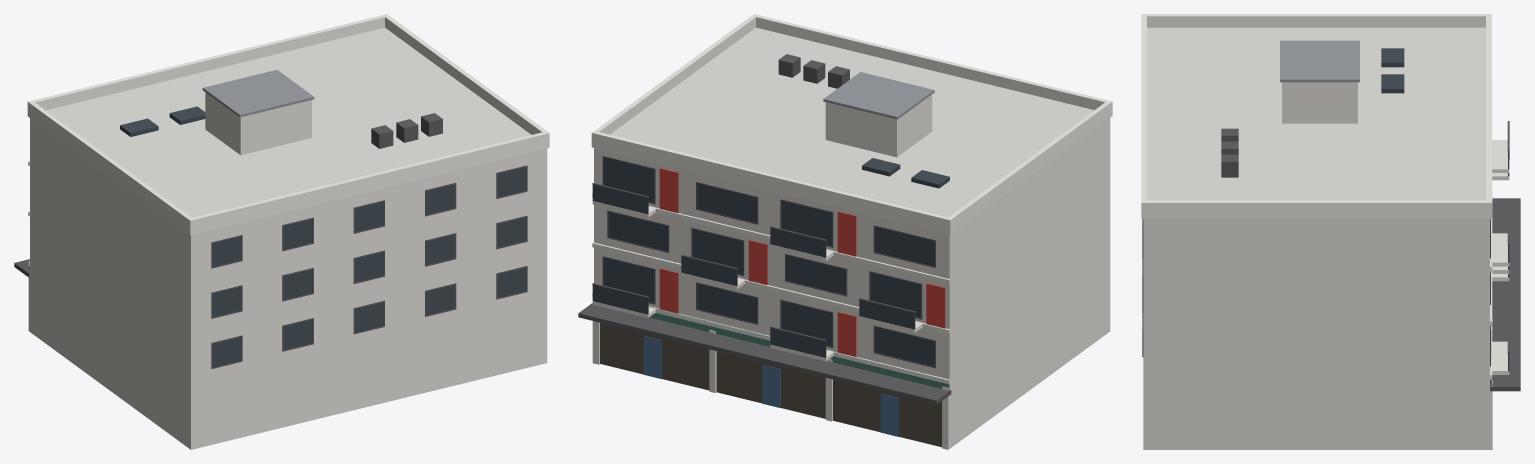
File: ca_mainstreet4_b.glb
3 views of the same model, side by side, from view 1: azimuth 30°, elevation 25°; view 2: azimuth 150°, elevation 25°; view 3: azimuth 270°, elevation 25° (orthographic). The views are drawn at different scales.
Visible parts, largest first — view 1: ca_mainstreet4_b; view 2: ca_mainstreet4_b; view 3: ca_mainstreet4_b.
Part boxes in pixels (<box>): ca_mainstreet4_b: <box>14,14,549,449</box>; ca_mainstreet4_b: <box>578,14,1112,449</box>; ca_mainstreet4_b: <box>1141,14,1520,449</box>.
Bounding box in the file's own units: 23.2 × 16.1 × 19.7.
